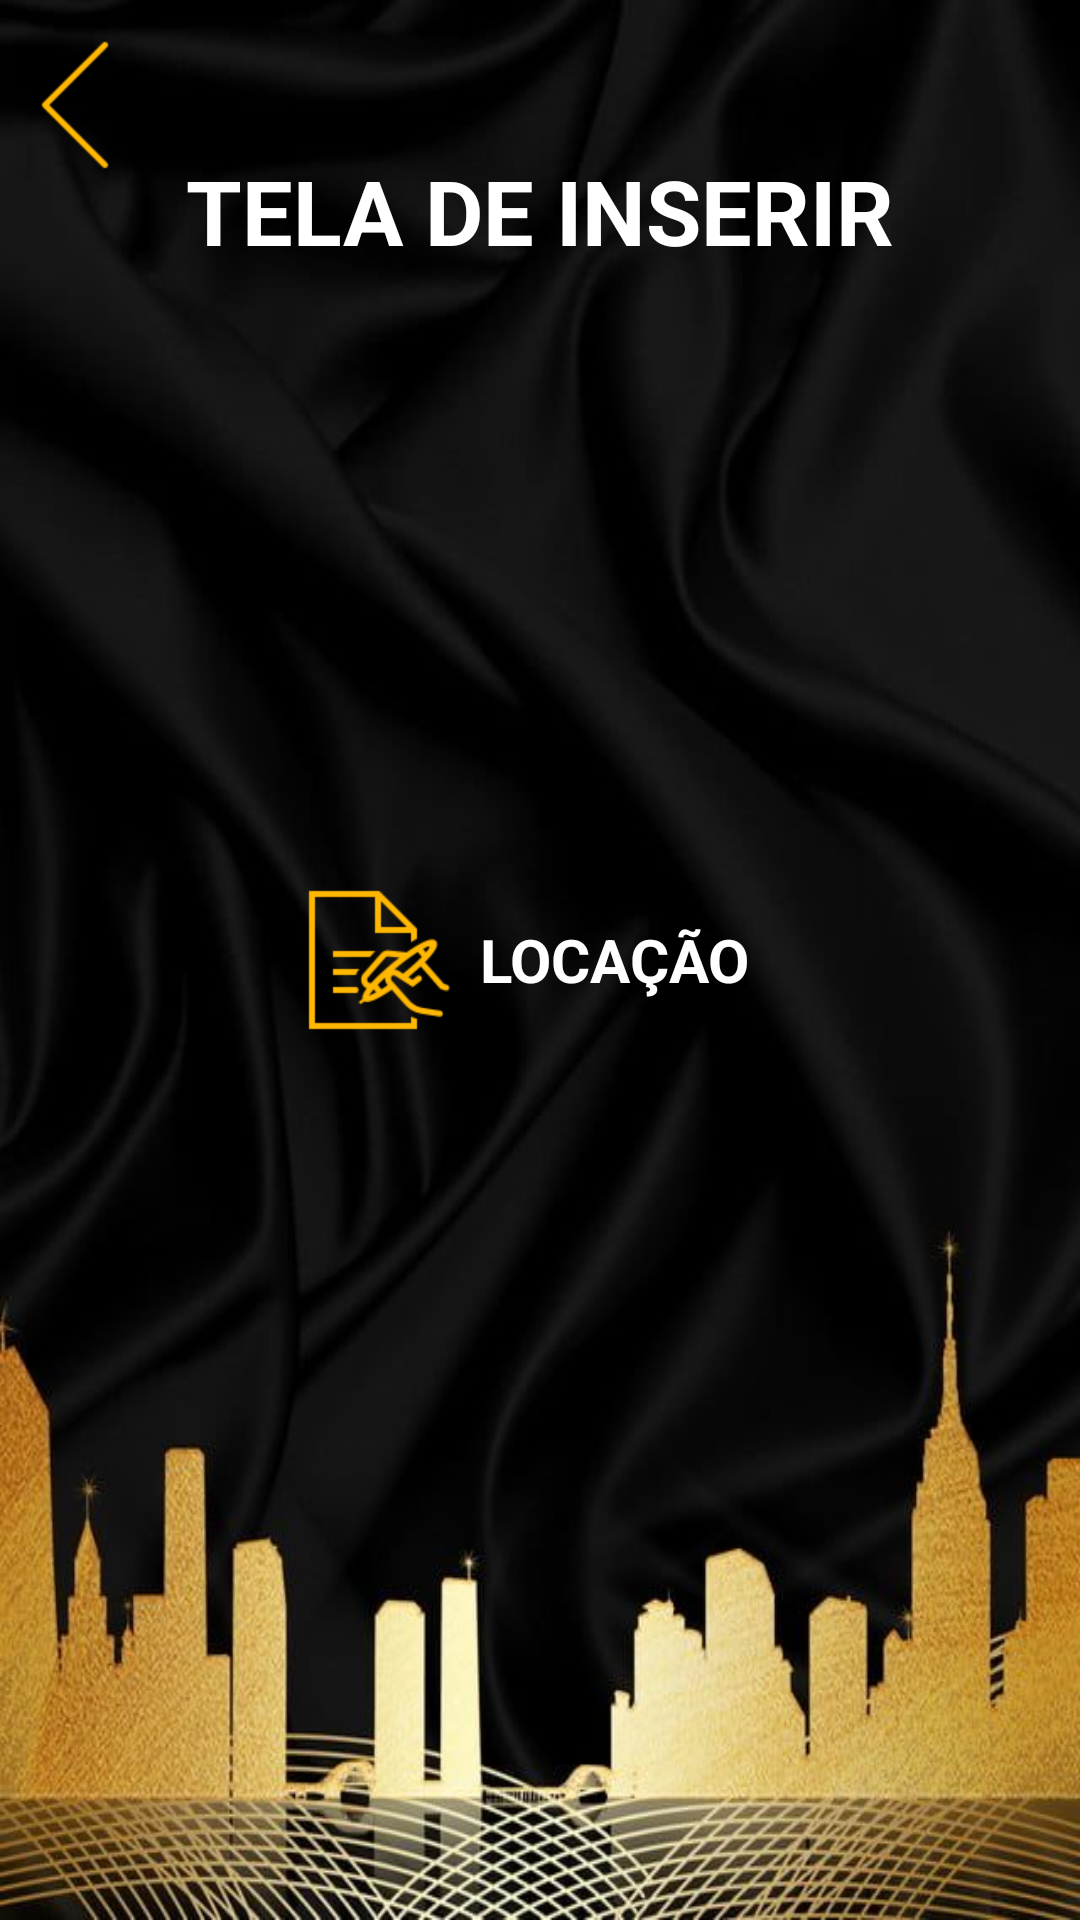

Where icons sit on this 1080 x 1920 app screen, as [x1,y1,x2,y2]:
back: [41,41,109,169]
locacao: [308,890,450,1030]
